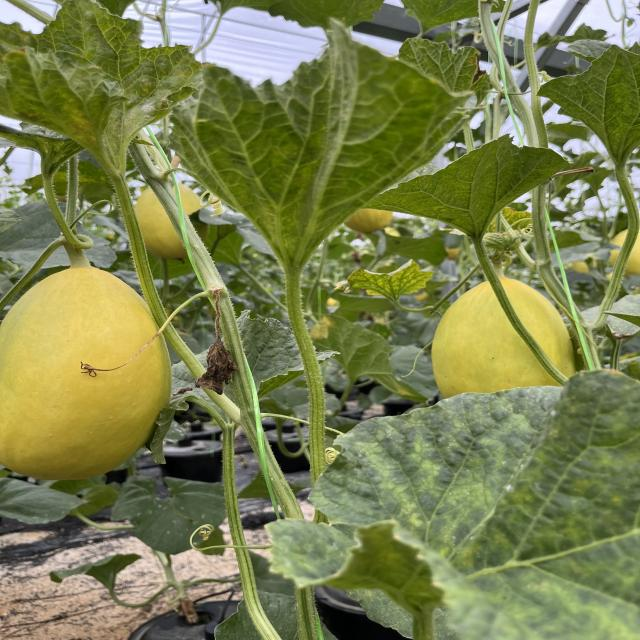CMV: (3, 1, 210, 189)
bacterial wilt: (192, 289, 242, 396)
downy mildew: (275, 383, 640, 640), (361, 132, 571, 241), (533, 41, 640, 172), (334, 257, 434, 302)
